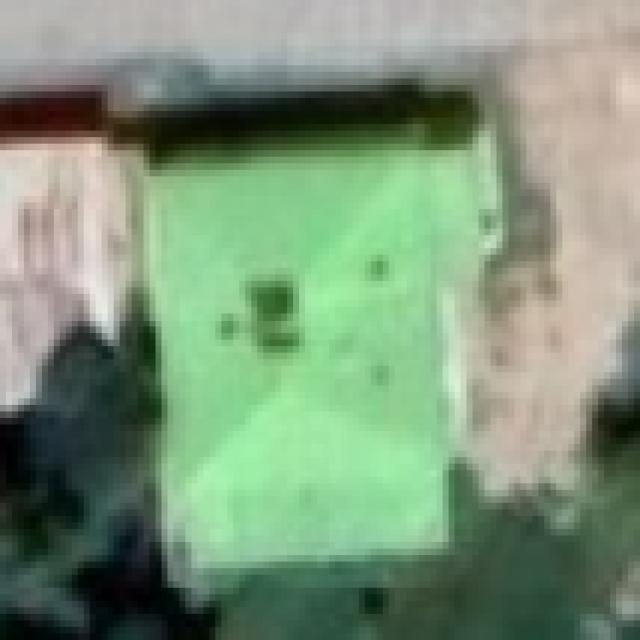Batiment: (149, 134, 495, 586)
